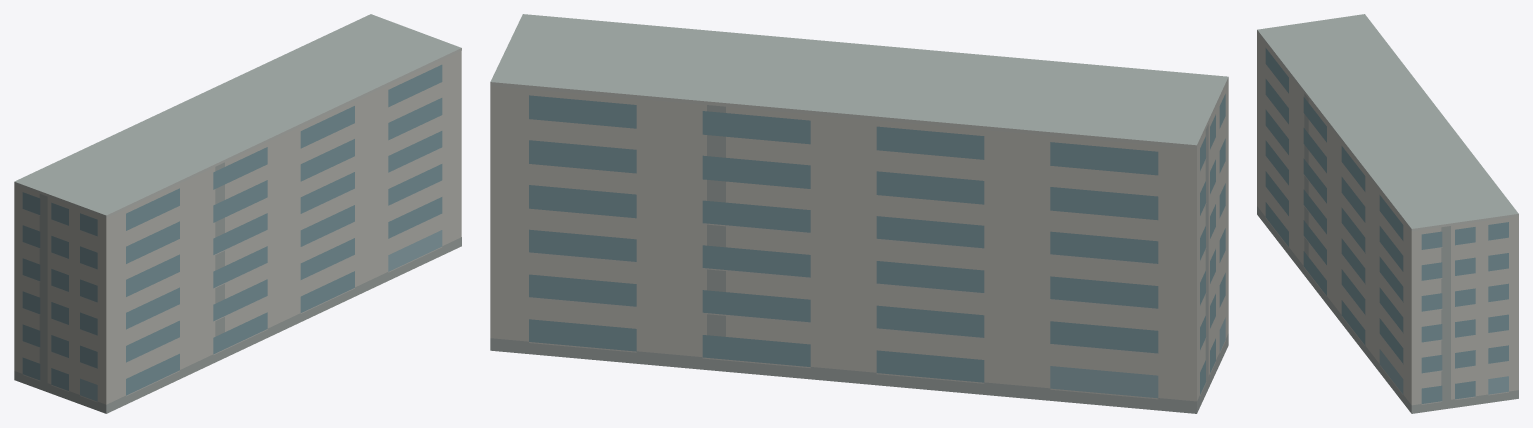
File: survey-upis-32909017.glb
3 views of the same model, side by side, from view 1: azimuth 30°, elevation 25°; view 2: azimuth 150°, elevation 25°; view 3: azimuth 270°, elevation 25° (orthographic). The views are drawn at different scales.
Parts seen in each view (by area): view 1: survey-upis-32909017.tmp; view 2: survey-upis-32909017.tmp; view 3: survey-upis-32909017.tmp.
Boxes of the visible parts, box(x1,y1,x2,y2) form: survey-upis-32909017.tmp: box(14, 14, 461, 413); survey-upis-32909017.tmp: box(490, 14, 1228, 413); survey-upis-32909017.tmp: box(1257, 14, 1518, 413).
Size of the model in its own units: 45.64 by 18.3 by 23.48.
